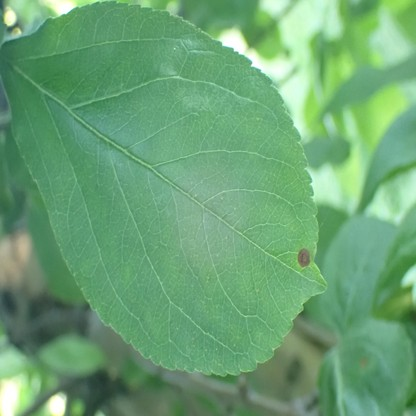frogeye_leaf_spot: (297, 248, 311, 267)
